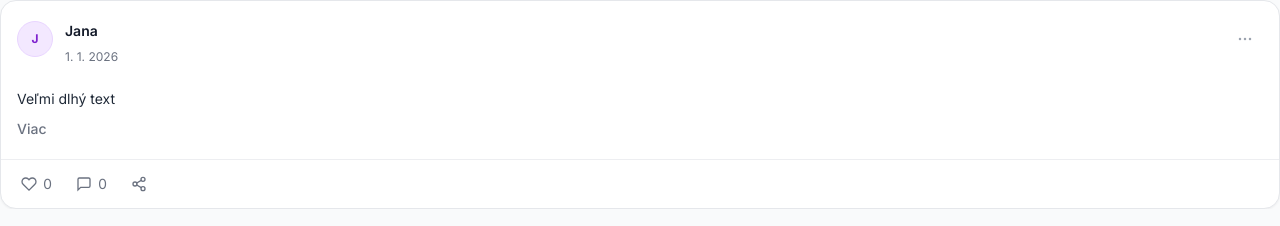
Test case: skrátenie na tri riadky › clamps a long caption and expands it on demand
This screenshot has width=1280, height=226.
Expected: the text with test id "feed-post-caption" reads "Veľmi dlhý text", [17,90,115,107]
Click the button with test id "feed-post-caption-toggle": (32, 129) [17,111,46,147]
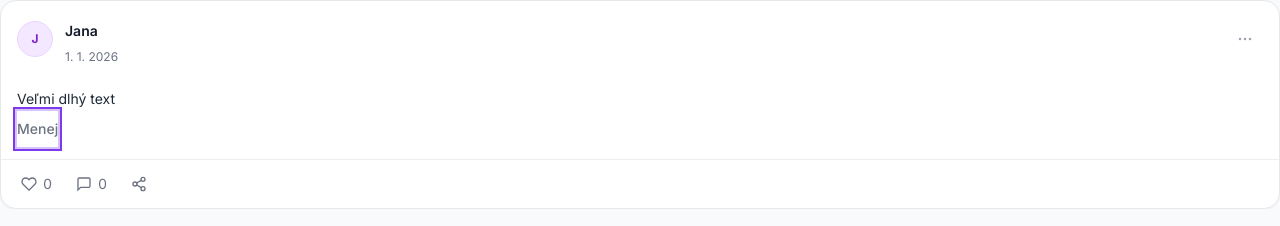
Result: the button with test id "feed-post-caption-toggle" reads "Menej"
Result: the button with test id "feed-post-caption-toggle" is expanded
Click the button with test id "feed-post-caption-toggle": (38, 129) [17,111,58,147]
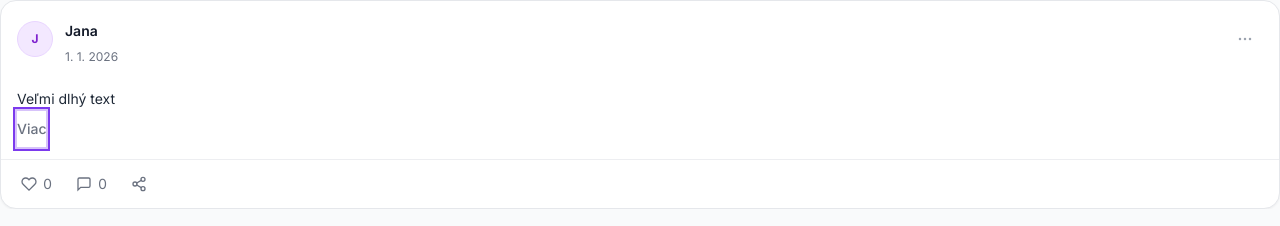
Result: the button with test id "feed-post-caption-toggle" reads "Viac" at [17,111,46,147]
